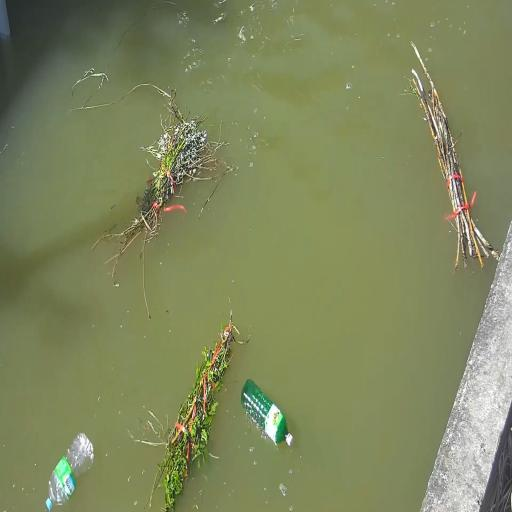plastic: (44, 428, 96, 512), (240, 376, 291, 448)
twig: (403, 41, 498, 269), (146, 317, 238, 502), (131, 91, 215, 263)
